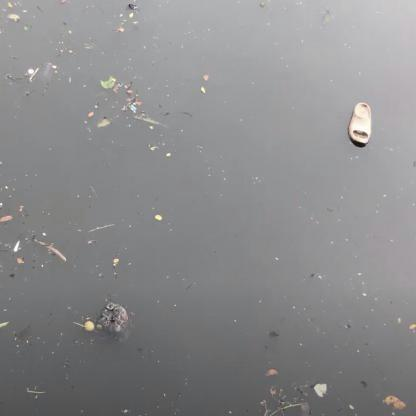Trash: (96, 298, 134, 340), (347, 98, 375, 148)
